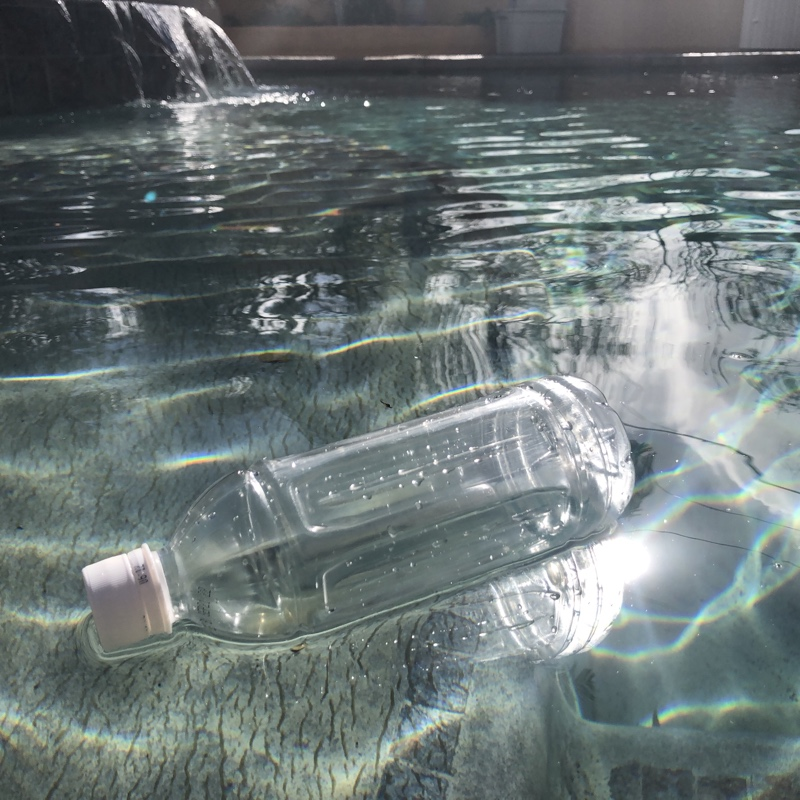Plastic Bottle: (75, 366, 638, 672)
